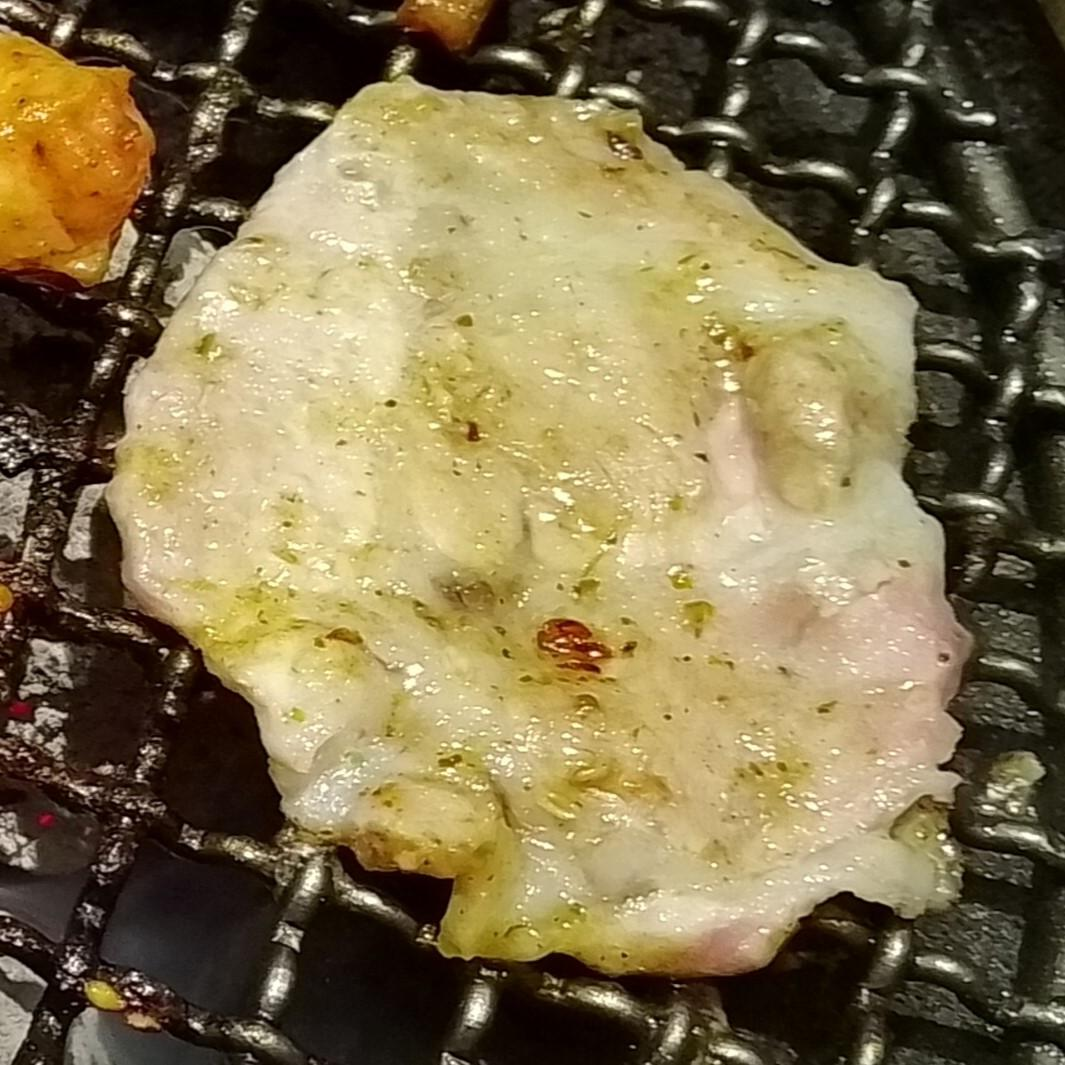Undercooked: (102, 74, 975, 984), (0, 24, 161, 292)
